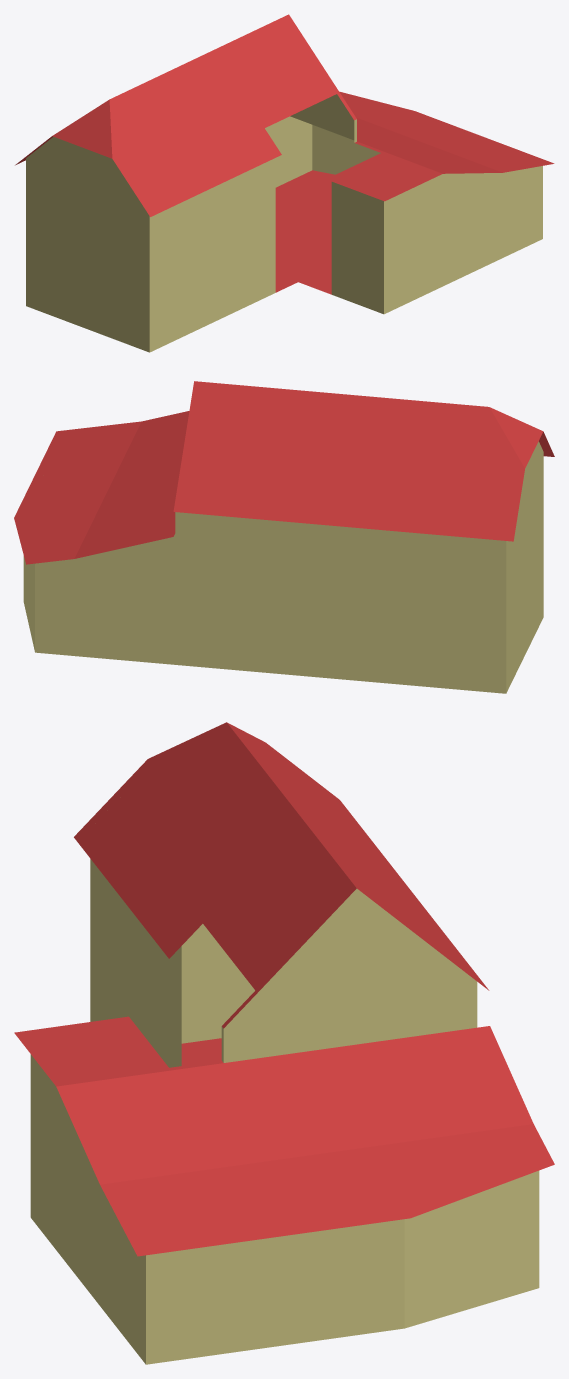
The picture shows the model from 3 angles, top to bottom: view 1: azimuth 30°, elevation 25°; view 2: azimuth 150°, elevation 25°; view 3: azimuth 270°, elevation 25°; orthographic projection. The views are drawn at different scales.
Size of the model in its own units: 31.93 by 20.5 by 14.11.
